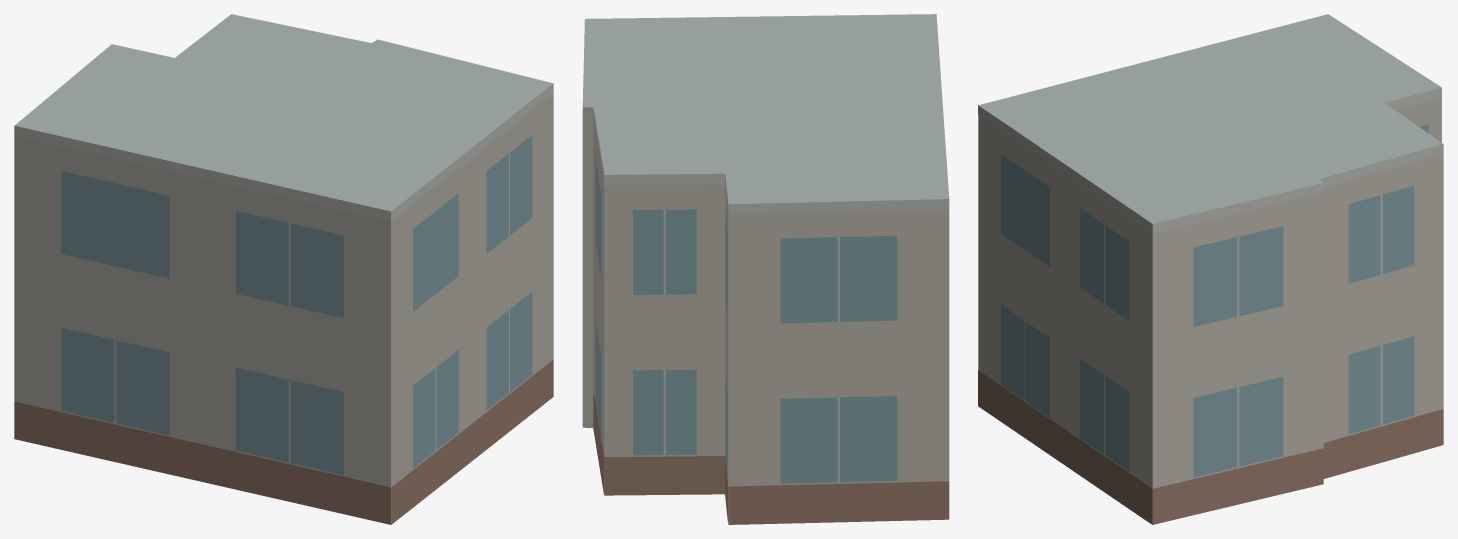
File: survey-upis-32598545.glb
The picture shows the model from 3 angles, left to right: view 1: azimuth 30°, elevation 25°; view 2: azimuth 150°, elevation 25°; view 3: azimuth 270°, elevation 25°; orthographic projection. The views are drawn at different scales.
Visible parts, largest first — view 1: survey-upis-32598545.tmp; view 2: survey-upis-32598545.tmp; view 3: survey-upis-32598545.tmp.
Boxes of the visible parts, bbox=[...] form: survey-upis-32598545.tmp: bbox=[14, 14, 553, 524]; survey-upis-32598545.tmp: bbox=[582, 14, 949, 524]; survey-upis-32598545.tmp: bbox=[978, 14, 1443, 524].
Size of the model in its own units: 11.37 by 7.6 by 10.66.
